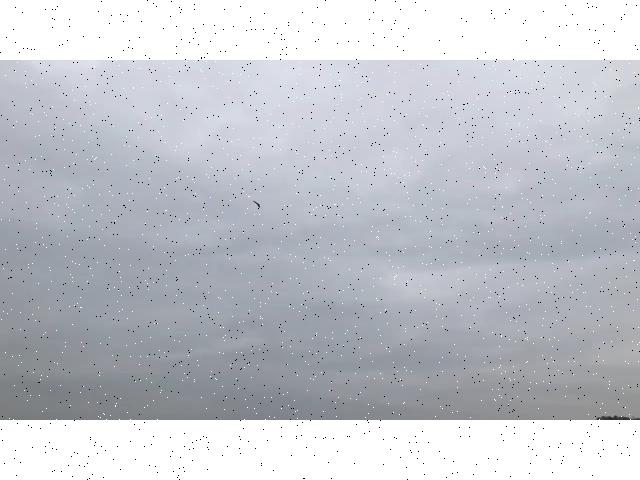Anti-Drone: (248, 195, 266, 211)
